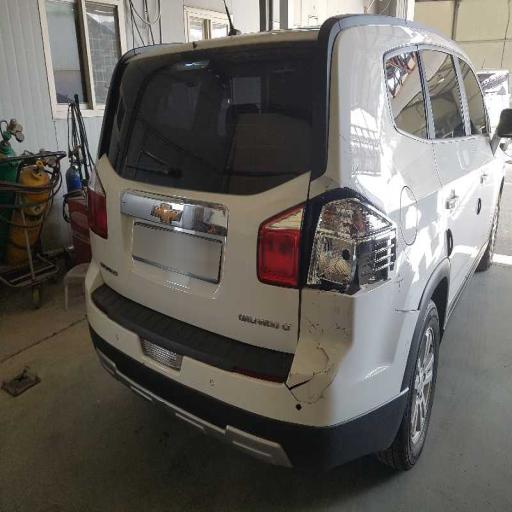broken: (243, 239, 366, 423), (280, 162, 392, 298)
